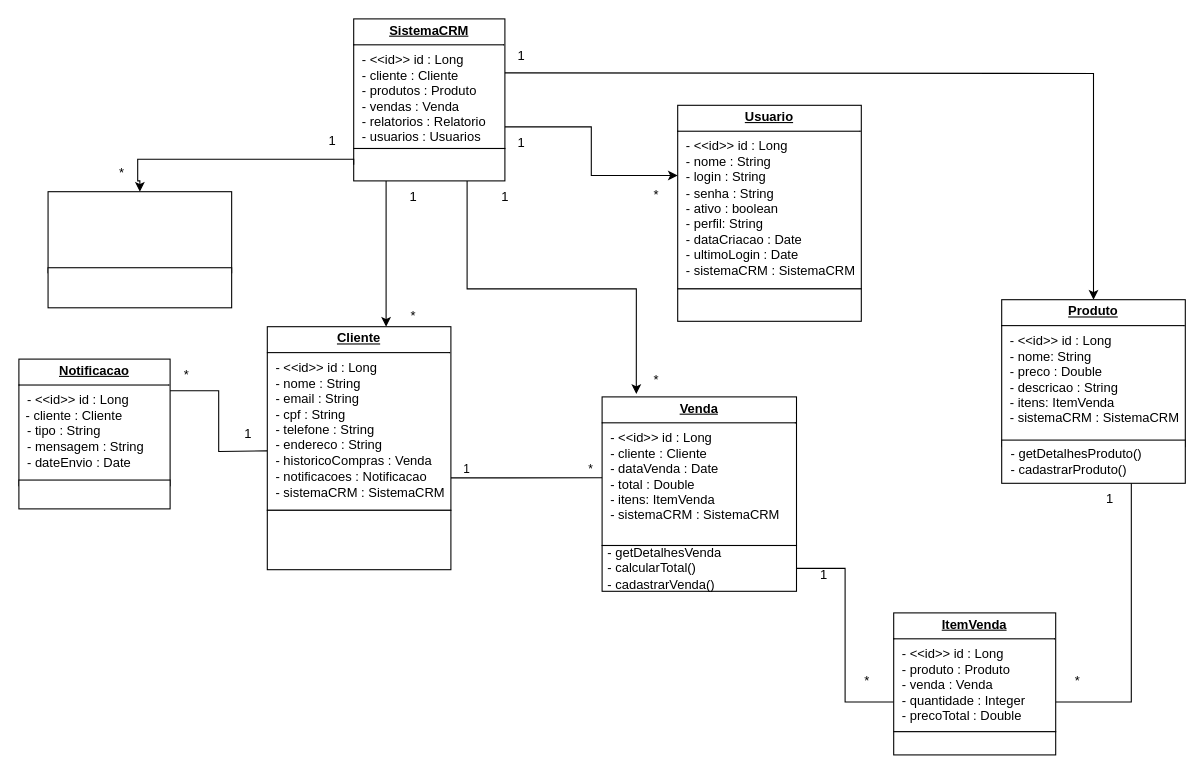
Some shapes in this 1204 by 774 pixel diagram are drawn without their labels. The box of each missing label's shape, as (x1, y1, x2, y2) in pixels:
- autenticar(): (677, 288, 861, 321)
- enviarNotificacao(): (18, 479, 170, 509)
- gerarRelatorioVendas() - gerarRelatorioClientes(): (47, 267, 232, 308)
- getDetalhesCliente() - adicionarHistorico() - cadastrarCliente(): (266, 509, 451, 570)
Relatorio - <<id>> id : Long - sistemaCRM : SistemaCRM: (47, 191, 232, 273)
